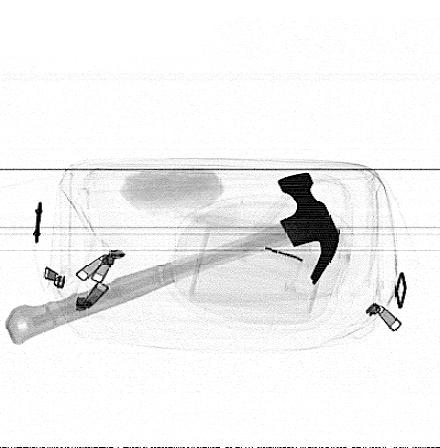Hammer: (3, 172, 340, 346)
